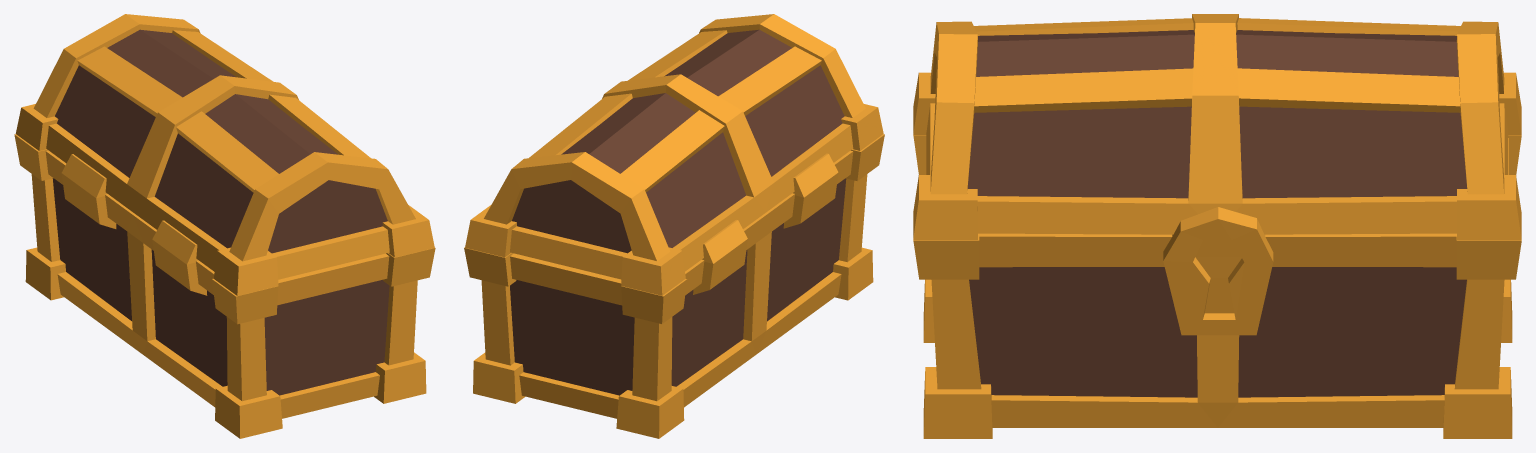
File: chest.glb
3 renders of one model, left to right at view 1: azimuth 30°, elevation 25°; view 2: azimuth 150°, elevation 25°; view 3: azimuth 270°, elevation 25°, orthographic. The views are drawn at different scales.
Visible parts, largest first — view 1: Golden_Chest_Top, Golden_Chest; view 2: Golden_Chest_Top, Golden_Chest; view 3: Golden_Chest_Top, Golden_Chest.
Boxes of the visible parts, <box> form: Golden_Chest_Top: <box>15,14,434,295</box>; Golden_Chest: <box>14,134,435,438</box>; Golden_Chest_Top: <box>465,14,883,295</box>; Golden_Chest: <box>464,134,884,438</box>; Golden_Chest_Top: <box>913,14,1521,239</box>; Golden_Chest: <box>913,135,1521,438</box>.
Bounding box in the file's own units: 0.2097 × 0.248 × 0.3867.
Materials: 1 (1 with a texture image).
